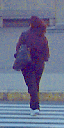person: (12, 12, 52, 110)
